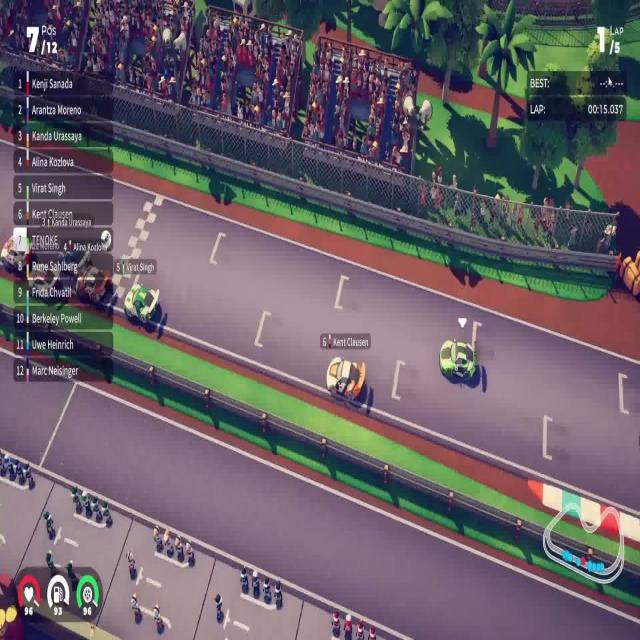car: (326, 355, 366, 404), (438, 337, 476, 382), (123, 282, 160, 327)
